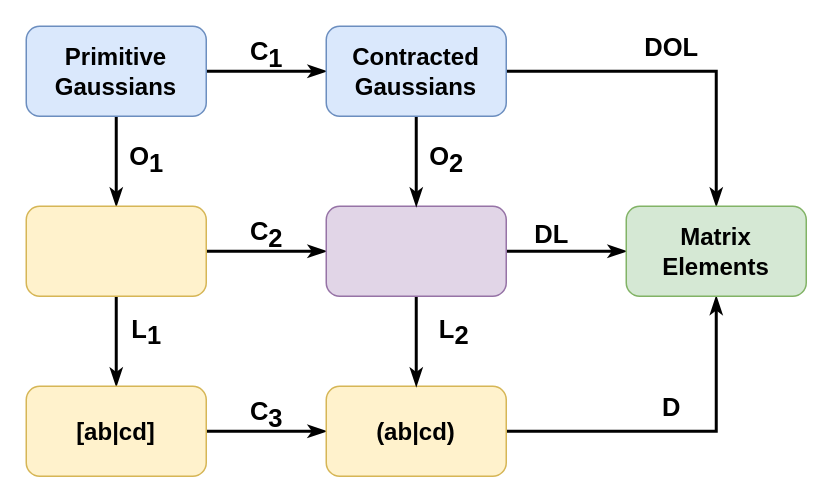
Image size: 833x503. Some labels were removed from this diagram. Here are the shapes that lost their labels. From the top down, the box of each, then its label:
(25, 205, 206, 296): [m]
(325, 205, 506, 296): Kernels
